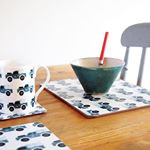cups: (1, 55, 52, 115), (68, 54, 128, 98)
